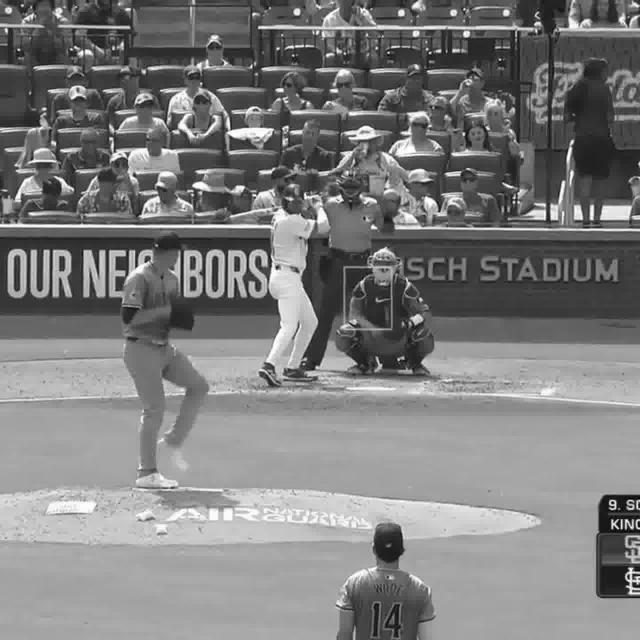base: (346, 384, 397, 394)
baseball_glove: (164, 286, 199, 332), (382, 301, 408, 351)
bat: (225, 199, 286, 225)
shoe: (153, 436, 191, 469), (136, 476, 181, 494), (255, 365, 283, 390), (280, 367, 319, 384)
